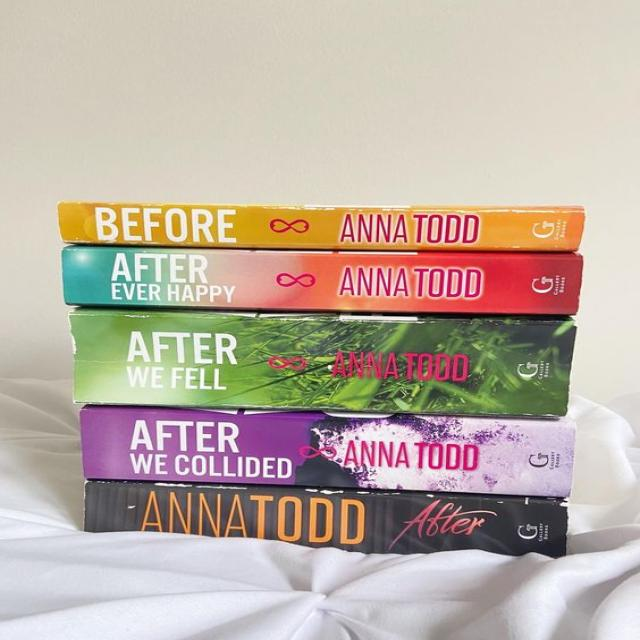book: (70, 312, 569, 414), (83, 408, 574, 498), (84, 480, 567, 556), (64, 246, 582, 314), (58, 202, 584, 251)
